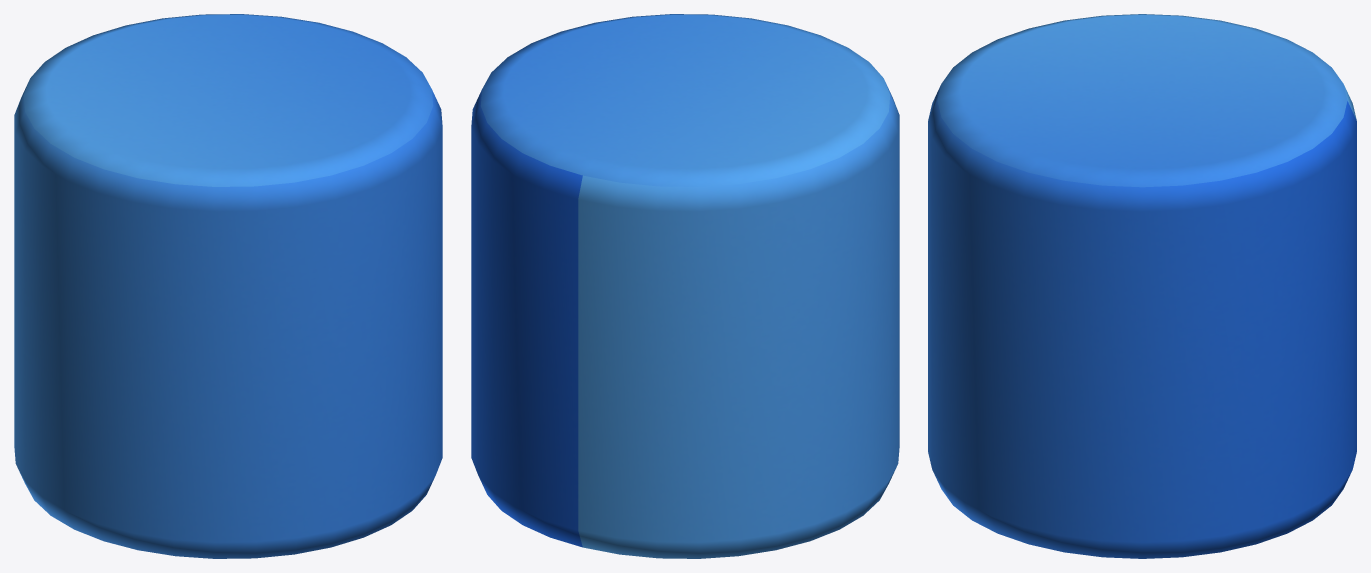
File: BlockBarrelBlue.fbx
3 renders of one model, left to right at view 1: azimuth 30°, elevation 25°; view 2: azimuth 150°, elevation 25°; view 3: azimuth 270°, elevation 25°, orthographic.
Parts seen in each view (by area): view 1: Cylinder.001; view 2: Cylinder.001; view 3: Cylinder.001.
Boxes of the visible parts, x1,y1,x2,y2 form: Cylinder.001: (14,14,442,558); Cylinder.001: (471,14,899,558); Cylinder.001: (928,14,1356,558).
Bounding box in the file's own units: 200 × 200 × 200.
